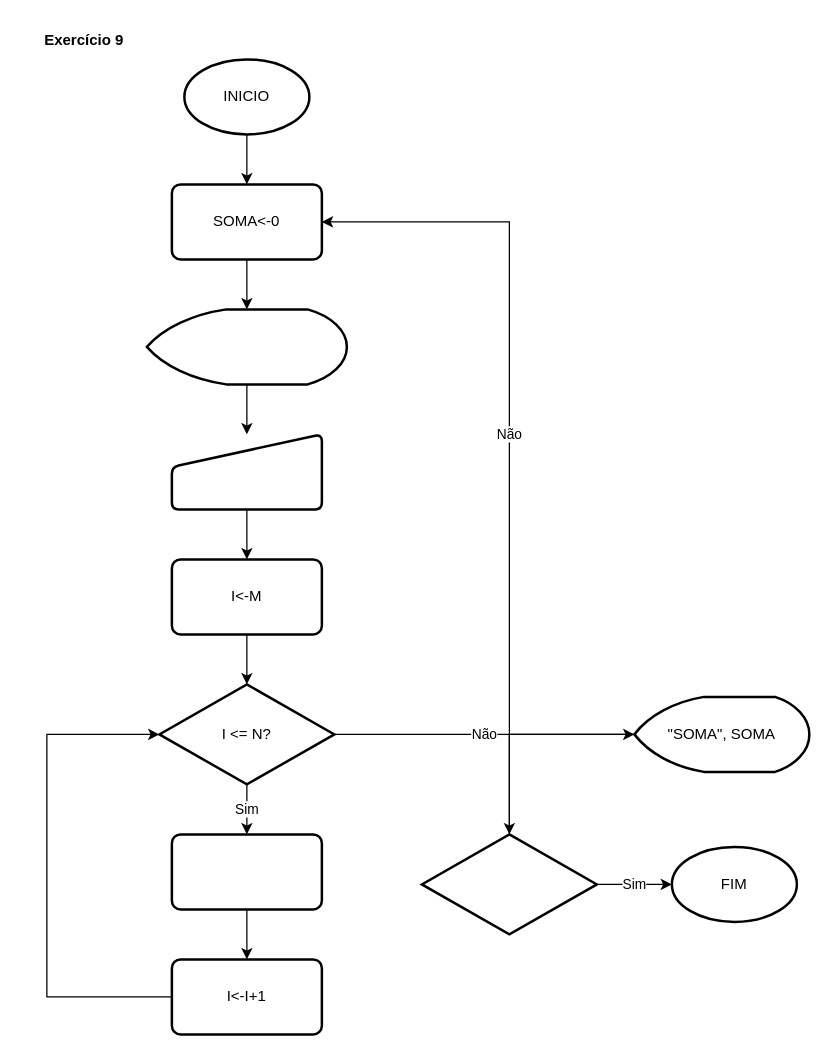
This 831x1056 diagram has some shape labels left out. The shapes that lost their labels are listed below. From the top down, each one's centre as x and y in pixels, then its label:
the point at 246,346: "INSIRA O INTERVALO"
the point at 246,471: M, N
the point at 246,871: SOMA<-SOMA+I
the point at 509,883: M >= N?
